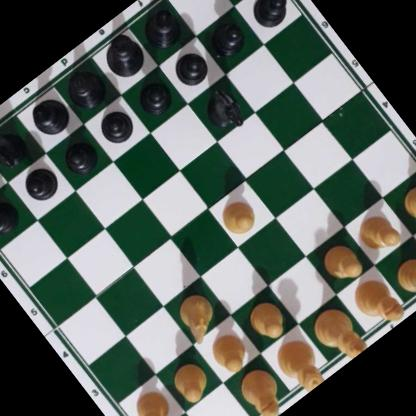black-bishop: (133, 0, 189, 56), (22, 89, 75, 142)
black-king: (94, 26, 153, 86)
black-knight: (196, 81, 249, 137), (0, 117, 30, 172)
black-pawn: (91, 102, 138, 150), (166, 43, 213, 90), (16, 160, 63, 207), (204, 15, 250, 61), (56, 133, 101, 179), (131, 75, 176, 121), (244, 0, 295, 34), (0, 194, 22, 240)
black-queen: (57, 60, 112, 115)
white-bishop: (346, 272, 406, 335), (231, 362, 294, 416)
white-king: (306, 302, 368, 367)
white-knight: (168, 286, 223, 344), (389, 249, 416, 309)
white-pawn: (350, 205, 404, 259), (202, 326, 253, 378), (316, 237, 366, 288), (241, 295, 290, 345), (165, 357, 213, 406), (214, 194, 261, 241), (125, 383, 178, 416), (396, 176, 416, 228)
white-queen: (268, 331, 332, 399)
